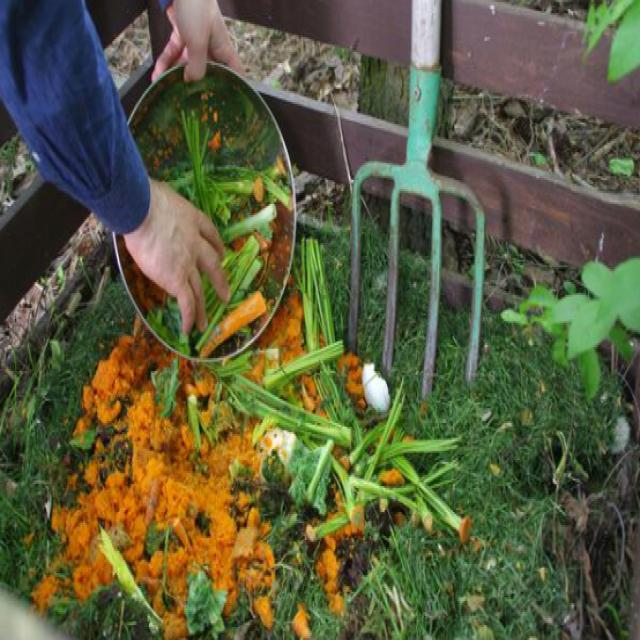paper: (523, 263, 640, 390), (243, 382, 362, 463), (140, 455, 224, 559), (195, 290, 285, 365), (577, 4, 640, 104), (354, 340, 392, 413)
